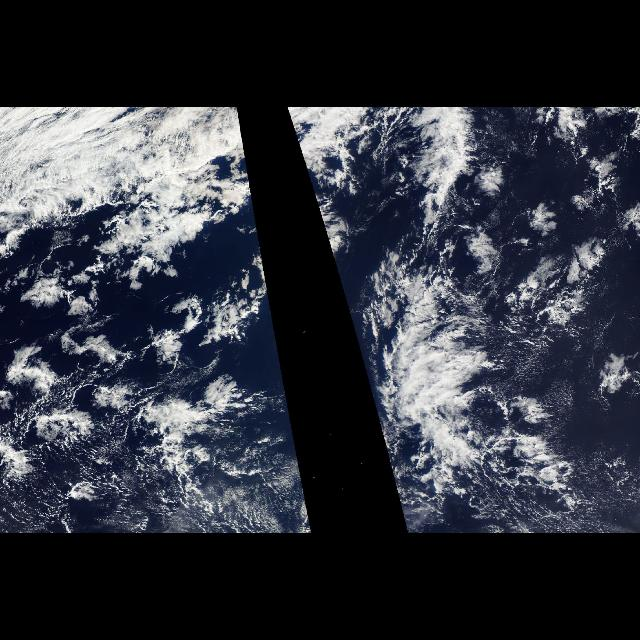Fish: (367, 256, 613, 484)
Gravel: (15, 275, 254, 489)
Sugar: (36, 451, 282, 533)
